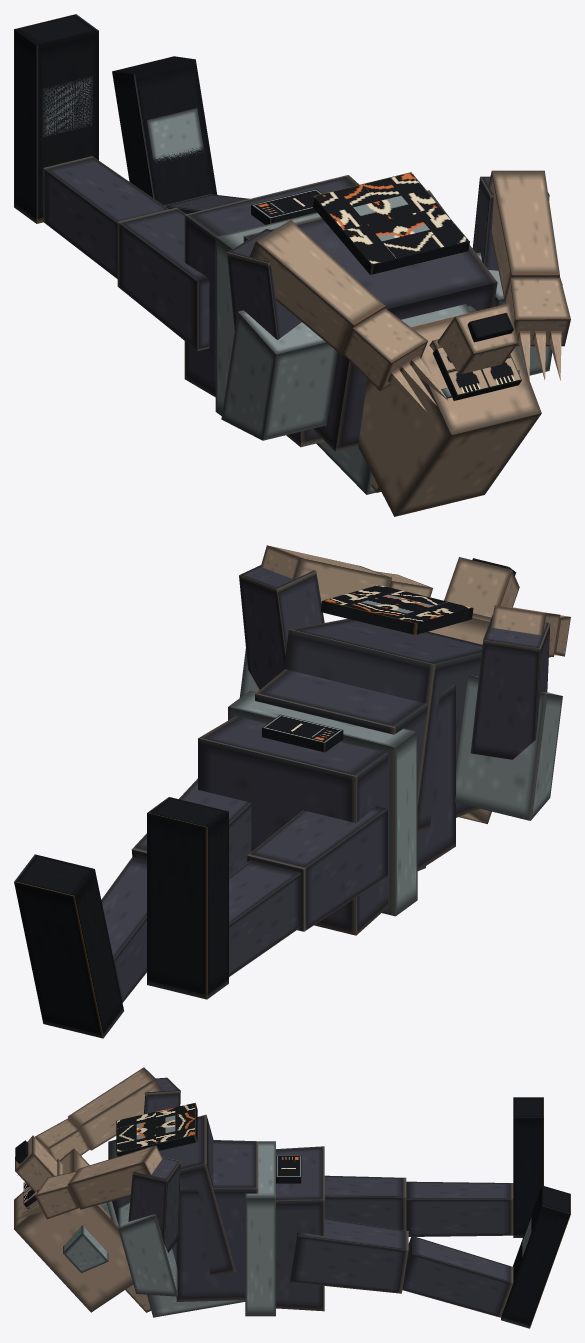
File: repetiel_hurt.obj
The picture shows the model from 3 angles, top to bottom: view 1: azimuth 30°, elevation 25°; view 2: azimuth 150°, elevation 25°; view 3: azimuth 270°, elevation 25°; orthographic projection. The views are drawn at different scales.
Parts seen in each view (by area): view 1: repetiel_hurt; view 2: repetiel_hurt; view 3: repetiel_hurt.
Part boxes in pixels (bbox=[...]): repetiel_hurt: bbox=[14, 14, 570, 516]; repetiel_hurt: bbox=[14, 545, 570, 1038]; repetiel_hurt: bbox=[14, 1067, 570, 1328].
Bounding box in the file's own units: 0.4686 × 0.418 × 1.07.
1 material, 1 textured.
